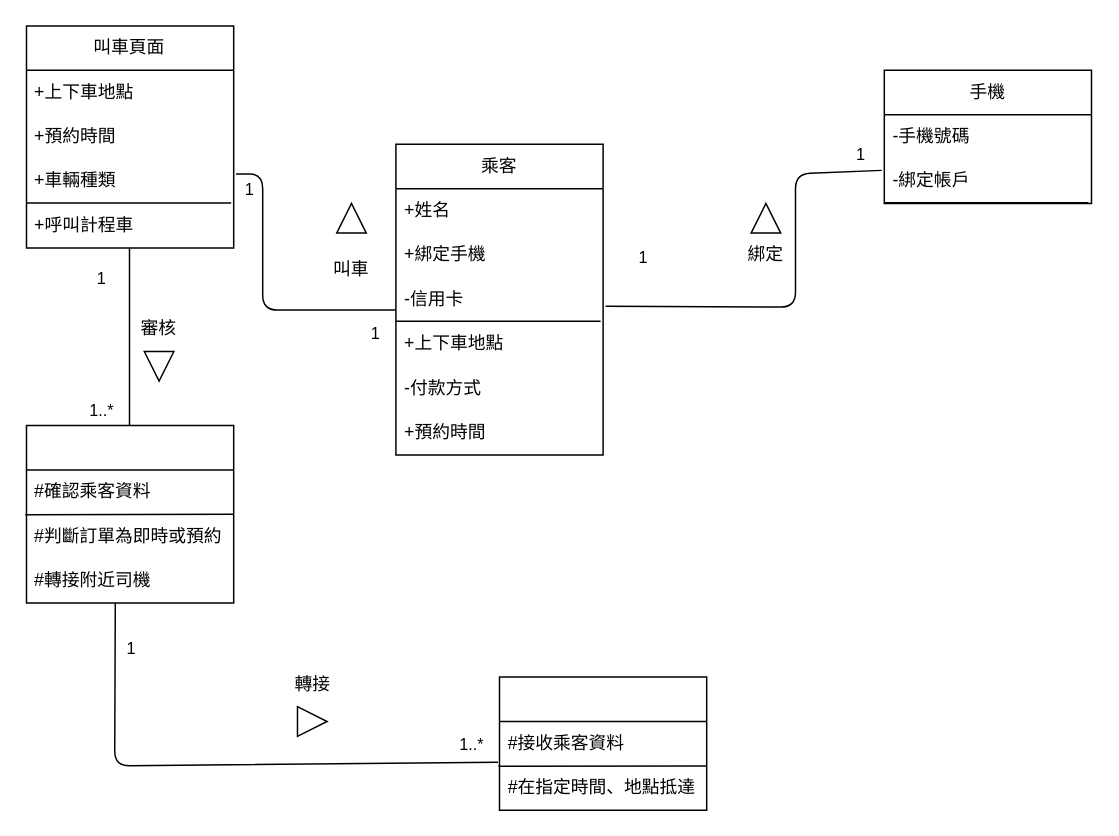
Some shapes in this 1119 by 836 pixel diagram are drawn without their labels. Each missing label, with the box of its shape:
司機: (498, 676, 707, 810)
系統管理員: (25, 424, 234, 603)
